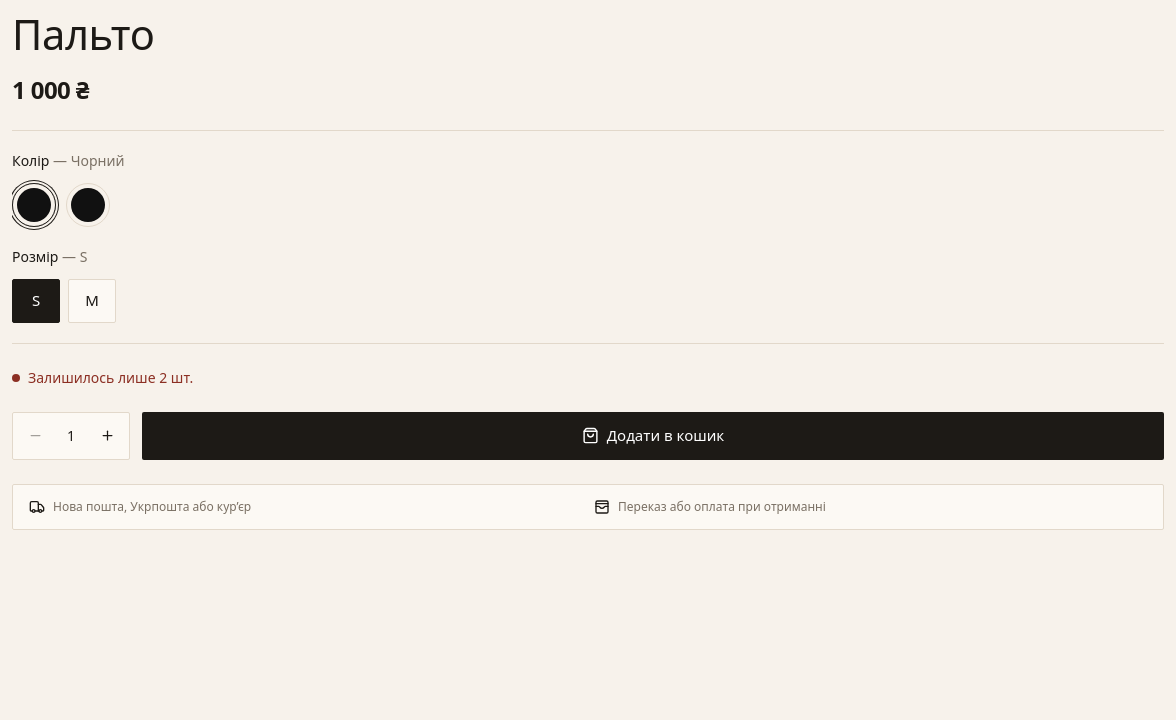
it: ProductPurchase › warns when stock is low and reassures when it is not
Expected: the text "Залишилось лише 2 шт." is shown, 12,368 -> 193,387
Step 1. Click the button "M" → [92, 301], box 68,279 -> 116,323
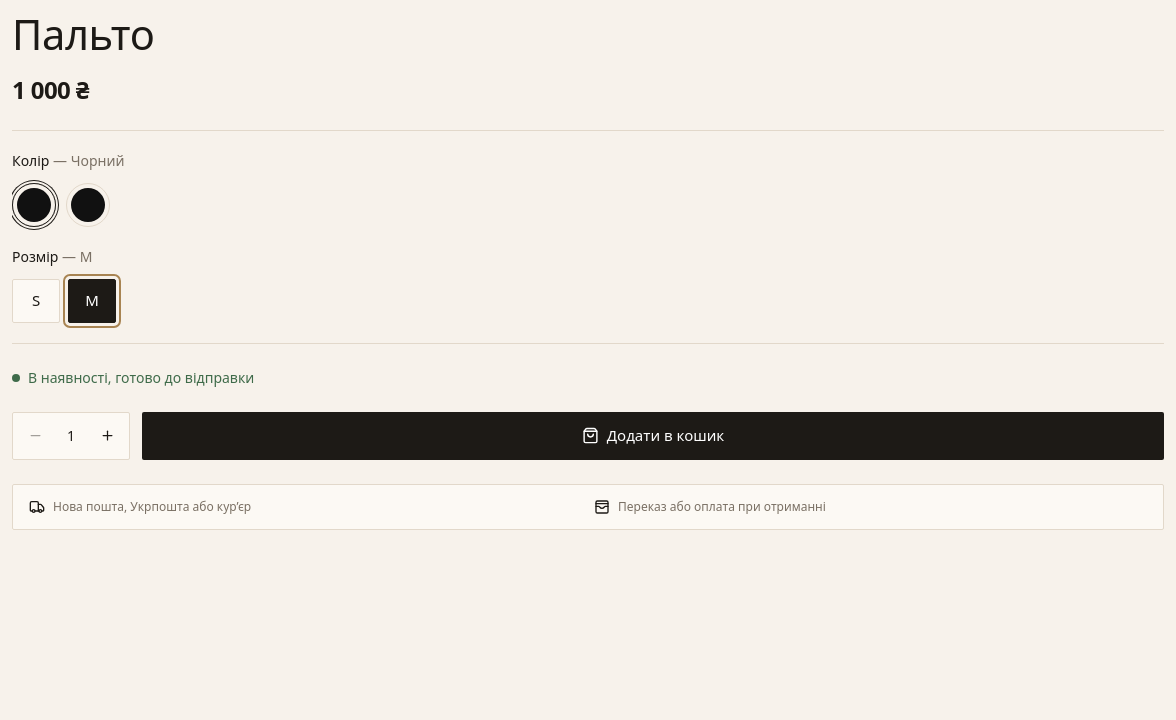
Now the text "В наявності, готово до відправки" is shown, box 12,368 -> 254,387
